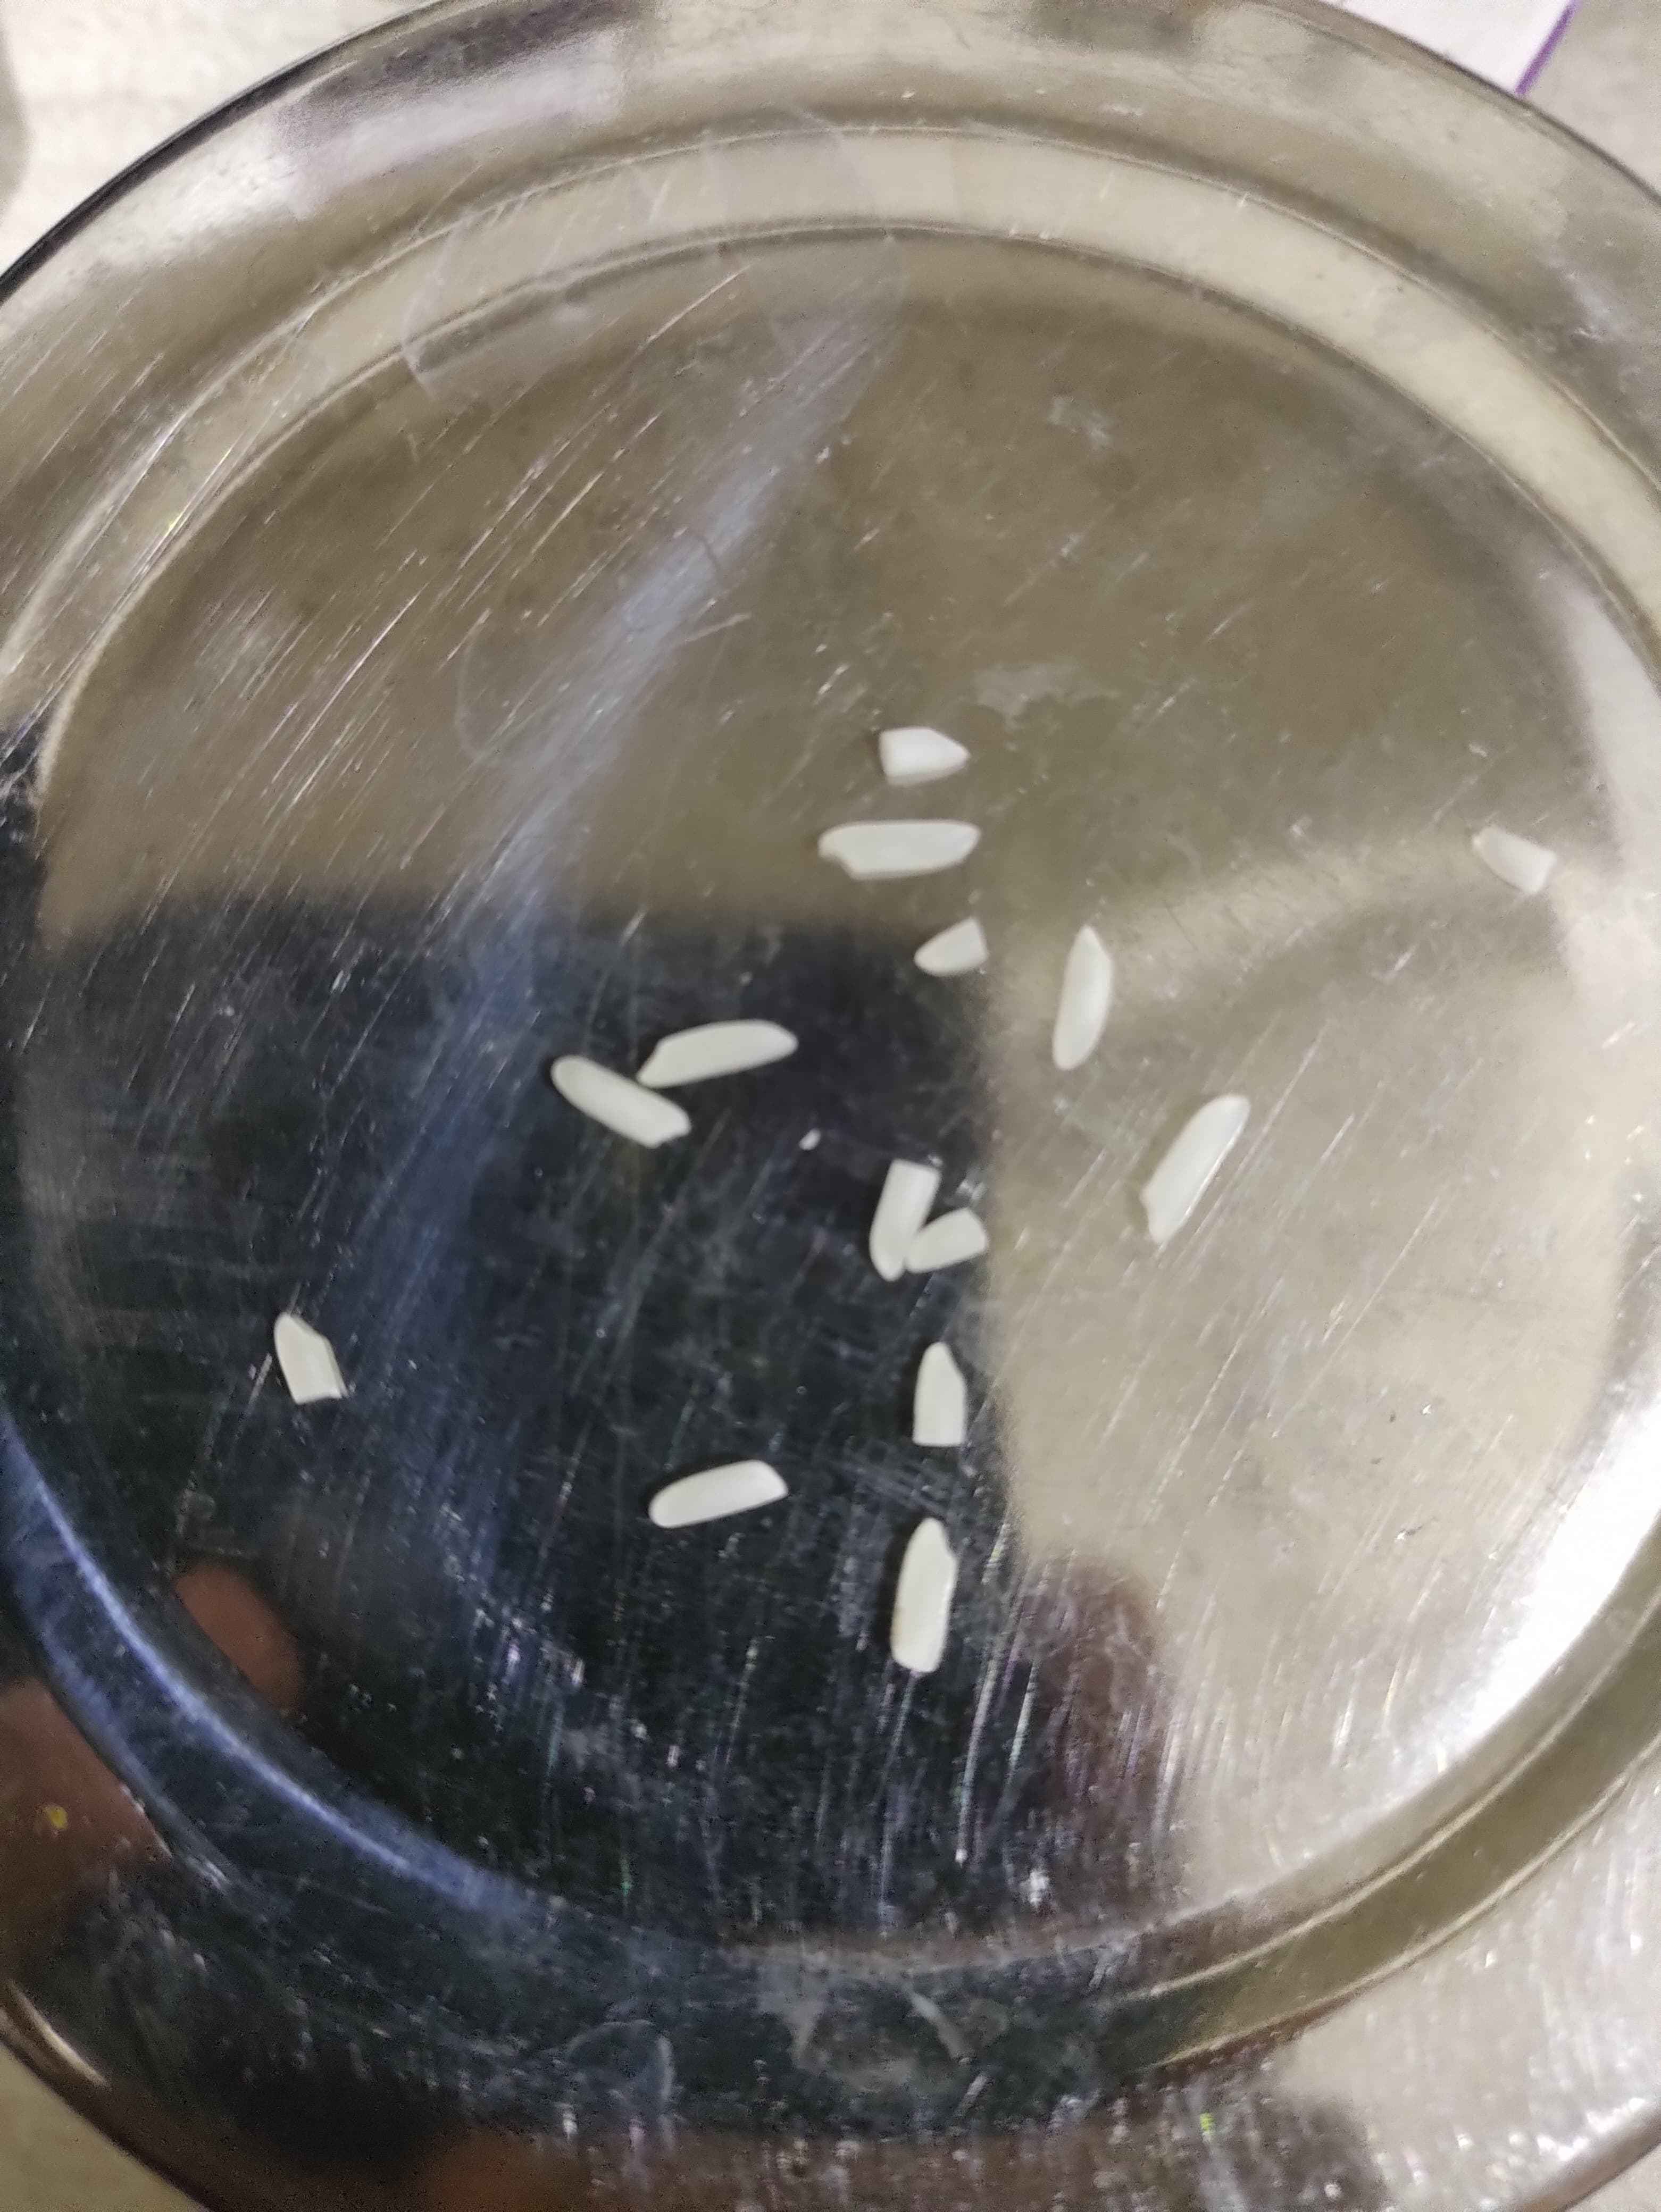broken_grain: (861, 1134, 940, 1297), (863, 706, 993, 800), (263, 1304, 359, 1425), (897, 1329, 982, 1465), (893, 1204, 997, 1280), (910, 910, 995, 989)
complete_grain: (1119, 1087, 1274, 1263), (867, 1504, 980, 1702), (1031, 910, 1138, 1093), (802, 808, 999, 895), (540, 1044, 697, 1153), (636, 1442, 797, 1538), (642, 1004, 804, 1093)
